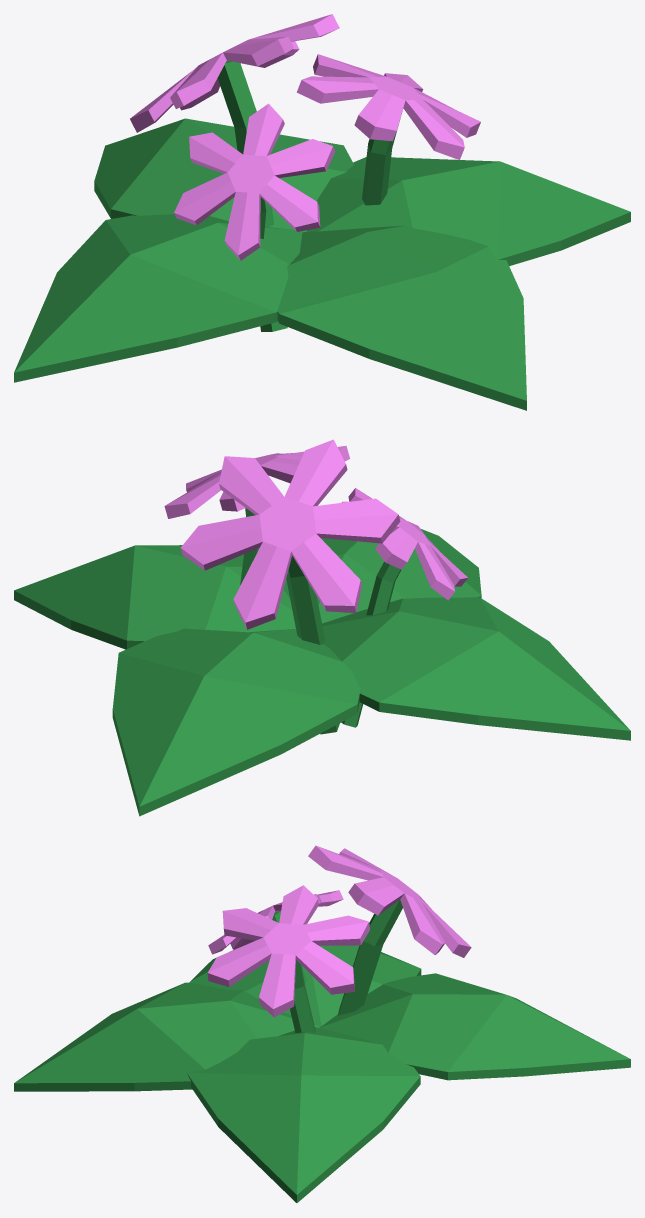
The model's file is Flower_04.fbx.
3 renders of one model, top to bottom at view 1: azimuth 30°, elevation 25°; view 2: azimuth 150°, elevation 25°; view 3: azimuth 270°, elevation 25°, orthographic. The views are drawn at different scales.
Visible parts, largest first — view 1: Flower_04; view 2: Flower_04; view 3: Flower_04.
Boxes of the visible parts, bbox=[...] form: Flower_04: bbox=[14, 14, 630, 410]; Flower_04: bbox=[14, 439, 630, 816]; Flower_04: bbox=[14, 845, 630, 1202].
Size of the model in its own units: 171 by 77.66 by 173.
